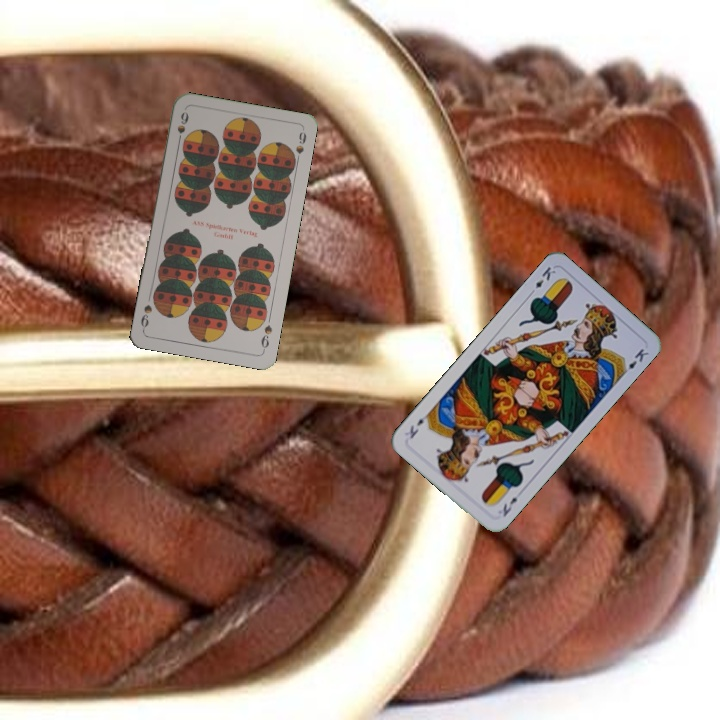EK: (525, 263, 558, 298), (499, 493, 520, 519)
S9: (173, 108, 191, 147), (257, 321, 275, 354)
